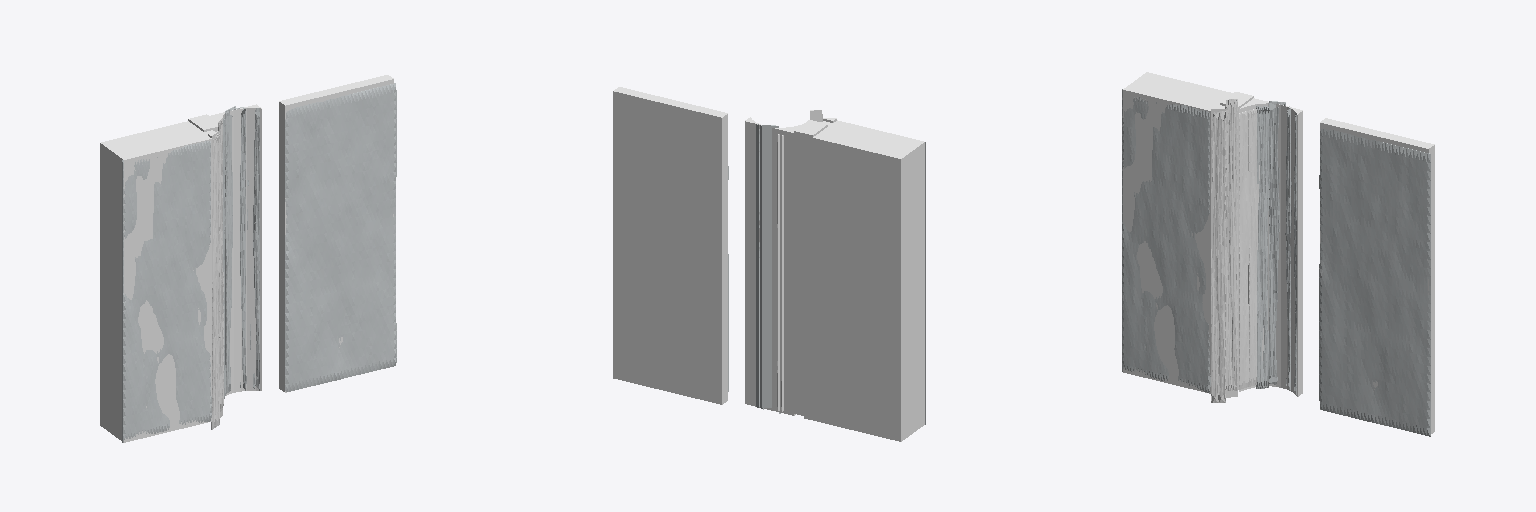
Rendered from tinker.obj.
3 views of the same model, side by side, from view 1: azimuth 30°, elevation 25°; view 2: azimuth 150°, elevation 25°; view 3: azimuth 330°, elevation 25° (orthographic).
Visible parts, largest first — view 1: obj_0; view 2: obj_0; view 3: obj_0.
Part boxes in pixels (left/top/right/bottom): obj_0: left=100, top=75, right=396, bottom=442; obj_0: left=613, top=87, right=925, bottom=441; obj_0: left=1122, top=72, right=1434, bottom=436.
Size of the model in its own units: 547 by 543 by 86.